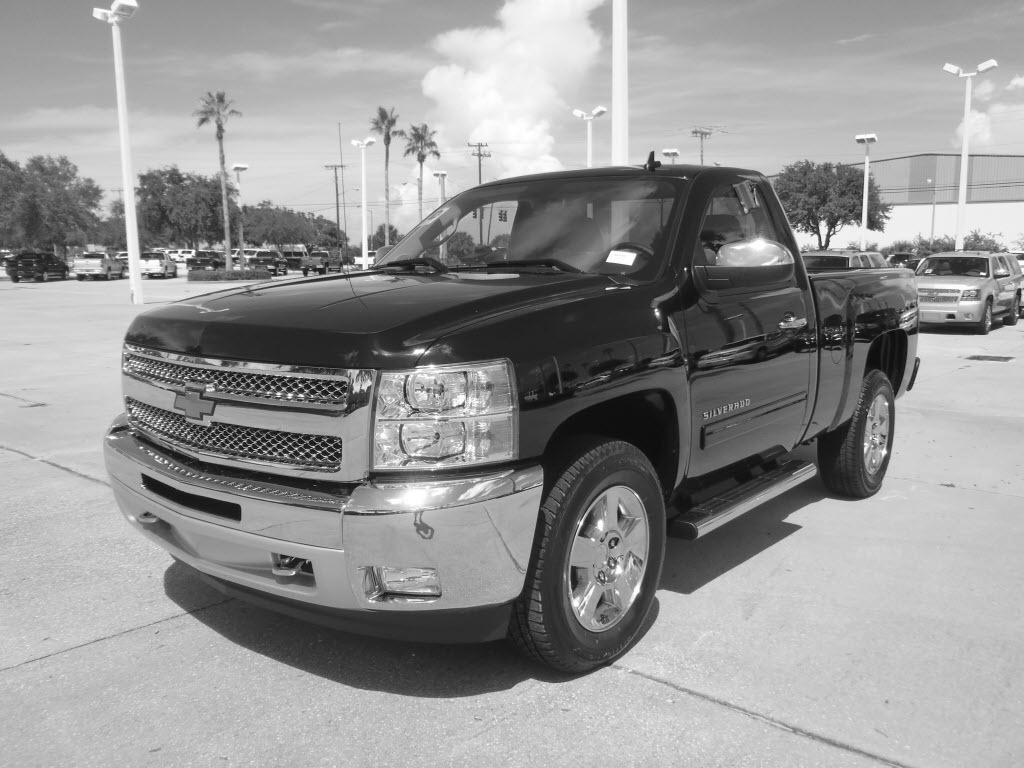car: (101, 155, 923, 679)
